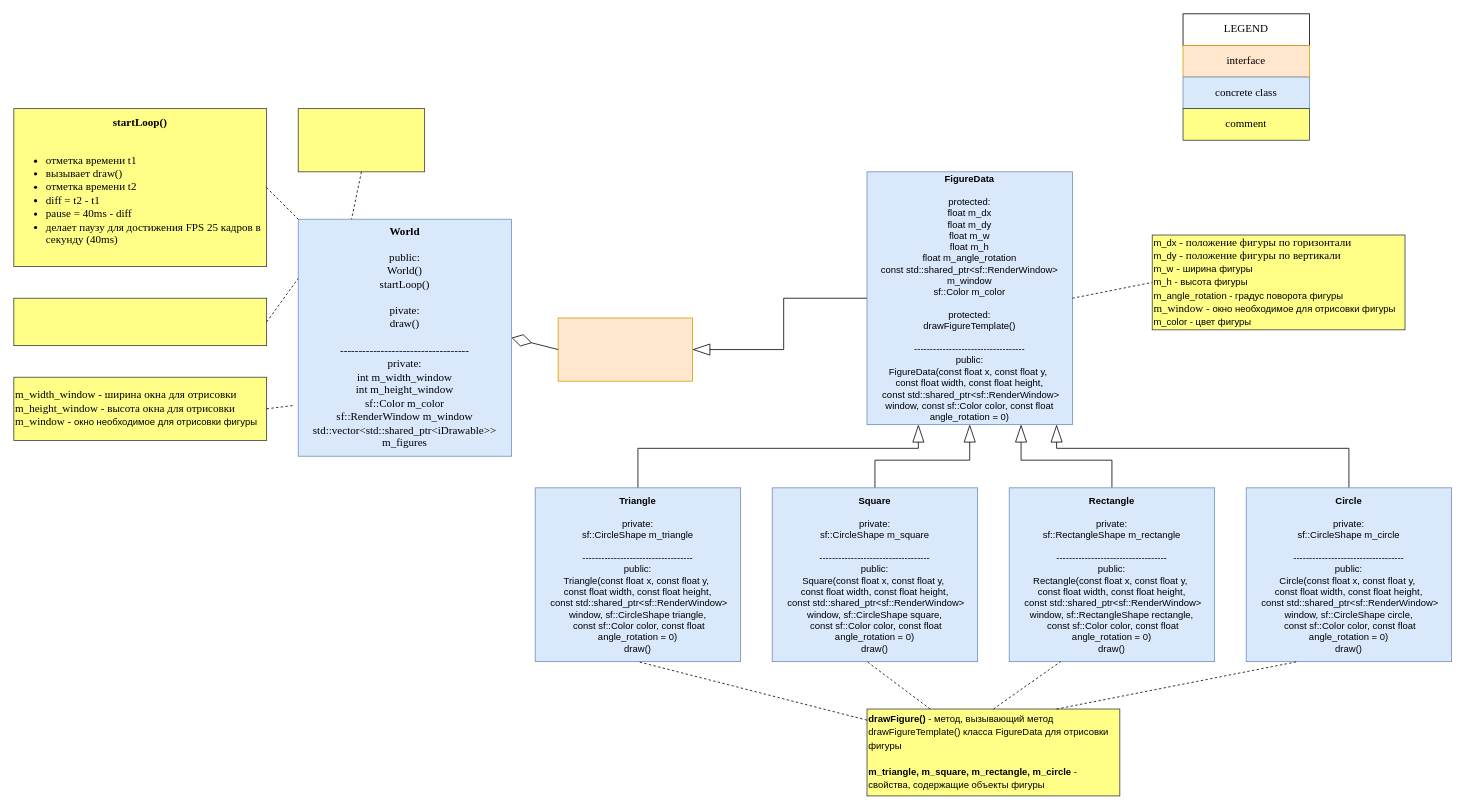
The diagram is 1465 pixels wide and 810 high, and some of its shapes have lost their labels. Here are the shapes that lost their labels. From the top down, the box of each, then its label:
(297, 108, 425, 172): main() создает объект World; запускает Loop
(13, 297, 267, 346): draw() отрисовывает все объекты
(557, 317, 692, 381): iDrawable draw() = 0
